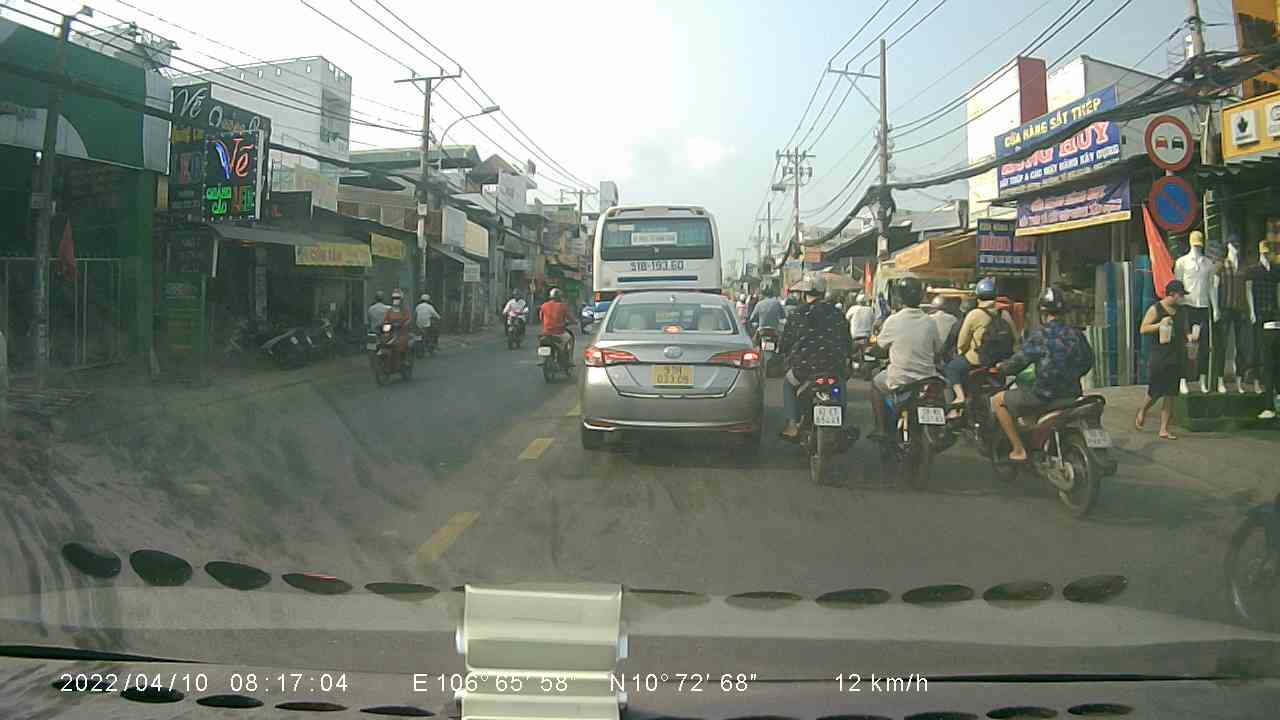Bien khac: (1144, 111, 1196, 169)
Cam do xe: (1145, 172, 1200, 234)
